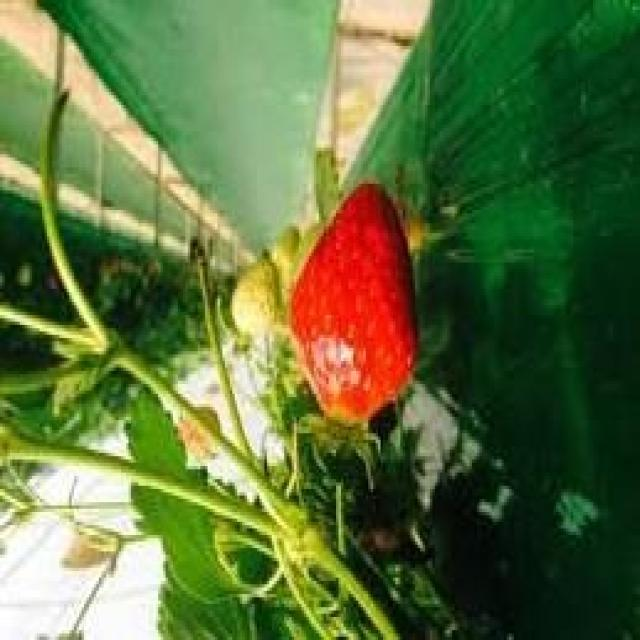mature: (291, 181, 420, 424)
